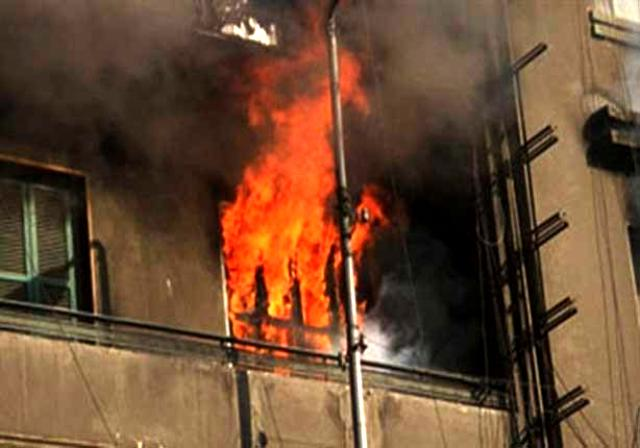fire: (1, 1, 637, 447), (213, 18, 397, 372)
